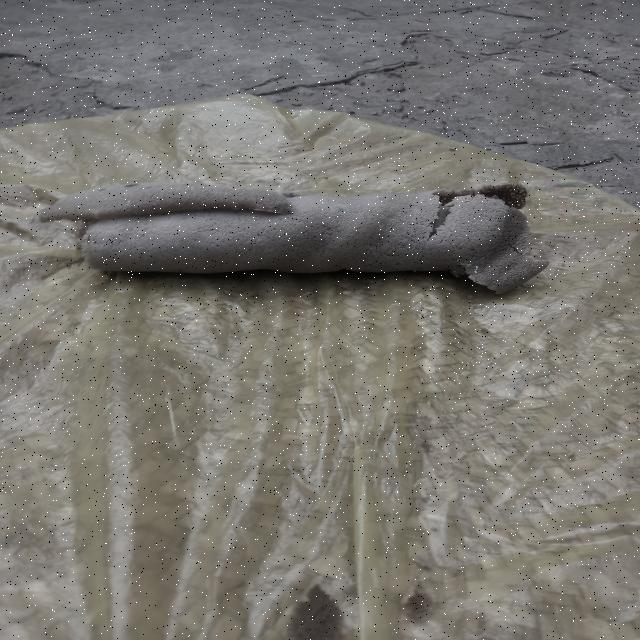injera_mold: (276, 201, 290, 210), (335, 206, 345, 215), (282, 192, 296, 198), (123, 184, 140, 188), (98, 187, 109, 192), (459, 263, 472, 267), (474, 265, 478, 275), (180, 183, 193, 185), (145, 186, 152, 189), (481, 256, 485, 260), (456, 259, 461, 262), (452, 243, 456, 246), (127, 200, 130, 203), (473, 256, 475, 260)
